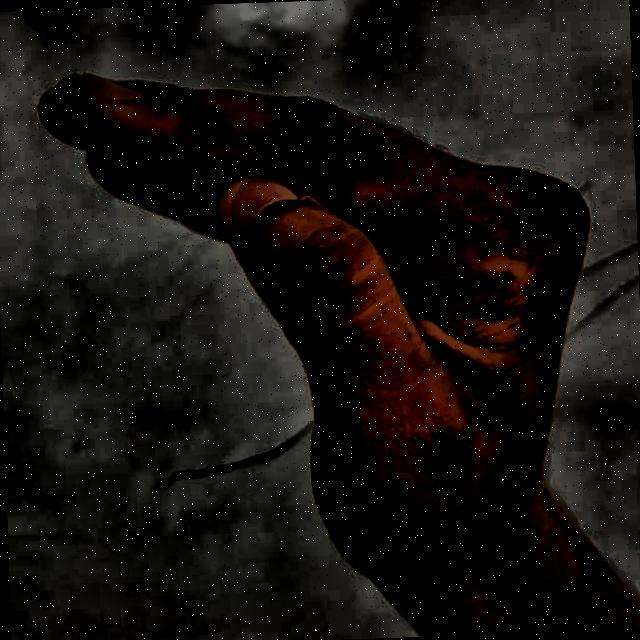Ga: (18, 19, 626, 619)
